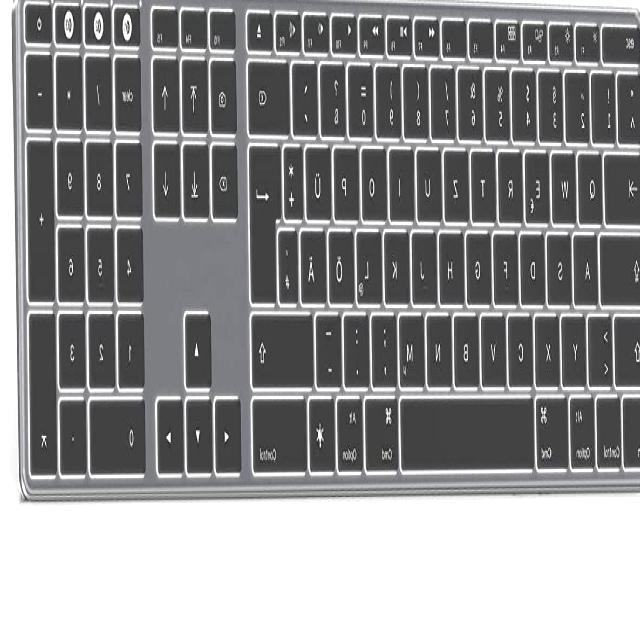0: (349, 58, 375, 136)
1: (592, 65, 617, 143)
2: (565, 66, 591, 142)
3: (539, 64, 565, 142)
4: (512, 64, 537, 140)
5: (485, 62, 511, 140)
6: (458, 61, 485, 140)
7: (431, 61, 456, 139)
8: (404, 60, 430, 139)
9: (377, 59, 403, 137)
a: (574, 226, 600, 305)
accent: (293, 57, 319, 135)
ae: (300, 222, 328, 304)
alt-left: (570, 389, 597, 471)
altgr-right: (337, 389, 365, 474)
b: (454, 307, 480, 386)
c: (508, 307, 534, 386)
caret: (618, 67, 640, 143)
comma: (373, 307, 399, 386)
d: (521, 225, 546, 305)
del: (247, 54, 291, 134)
e: (525, 145, 551, 224)
enter: (250, 136, 282, 302)
f: (494, 226, 520, 305)
g: (466, 225, 492, 304)
h: (439, 225, 465, 305)
hash: (279, 222, 299, 302)
i: (390, 141, 416, 219)
j: (412, 224, 438, 304)
k: (385, 224, 411, 304)
keyboard: (9, 0, 640, 509)
l: (357, 222, 383, 304)
less: (588, 308, 614, 386)
m: (399, 307, 426, 386)
minus: (316, 307, 343, 386)
n: (427, 307, 454, 386)
o: (361, 140, 388, 219)
oe: (329, 222, 355, 304)
p: (334, 140, 360, 219)
plus: (284, 139, 305, 221)
point: (344, 307, 372, 386)
q: (578, 145, 604, 224)
r: (499, 144, 525, 222)
s: (548, 226, 573, 305)
shift-left: (615, 308, 640, 384)
shift-lock: (601, 226, 640, 303)
shift-right: (252, 307, 315, 386)
space: (401, 391, 535, 475)
ss: (321, 58, 347, 136)
strg-left: (597, 389, 623, 471)
strg-right: (249, 391, 309, 475)
t: (472, 143, 498, 222)
tab: (604, 146, 640, 224)
u: (416, 140, 443, 222)
ue: (306, 139, 333, 221)
v: (481, 307, 507, 386)
w: (552, 145, 578, 224)
x: (535, 308, 561, 386)
y: (562, 308, 588, 386)
z: (445, 142, 471, 222)
